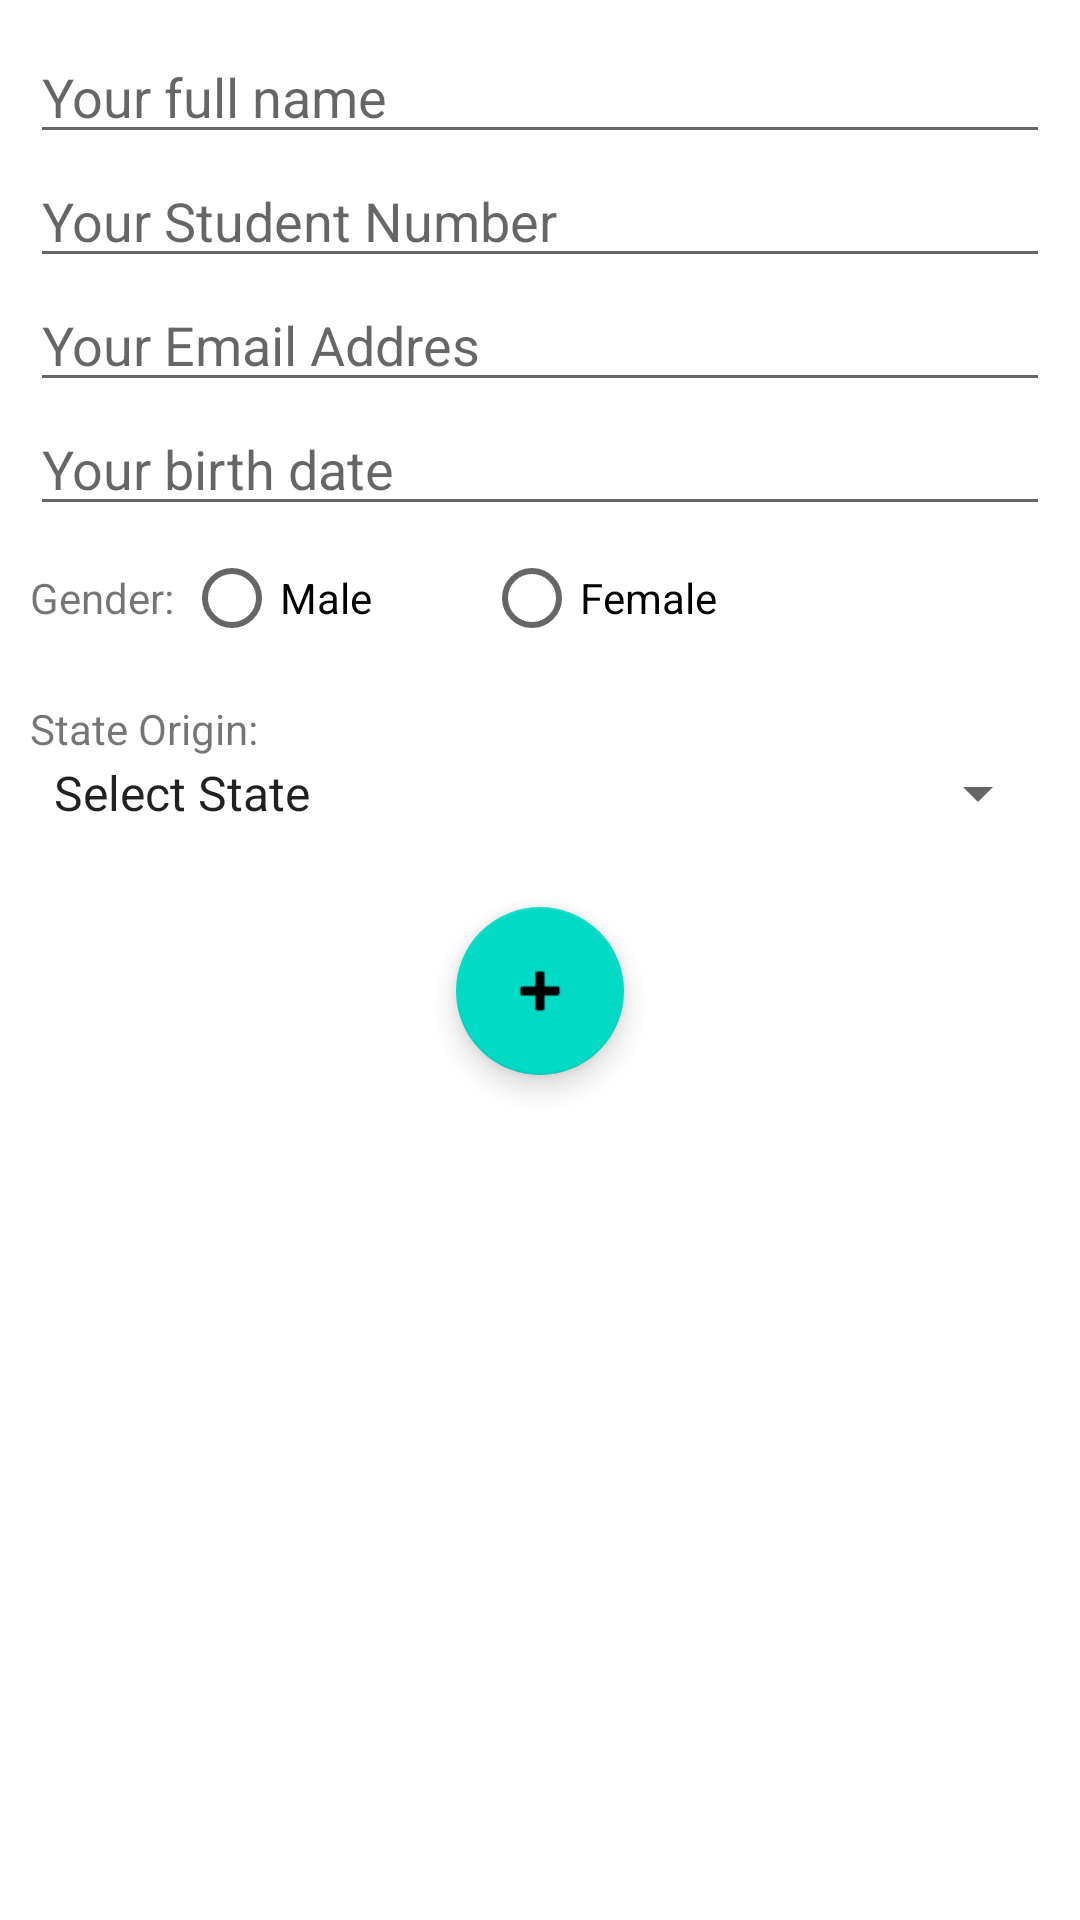

Where icons sit on this 1080*1920 app screen, as (x1, y1, x2, y2):
add: (456, 907, 624, 1075)
